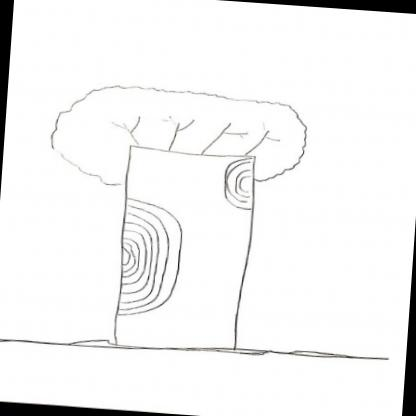branch_line: (108, 107, 288, 155)
crown_cloud: (48, 77, 312, 199)
knot: (112, 194, 190, 322), (218, 157, 264, 212)
root_none: (78, 330, 282, 375)
trunk_straight: (106, 188, 263, 333)
